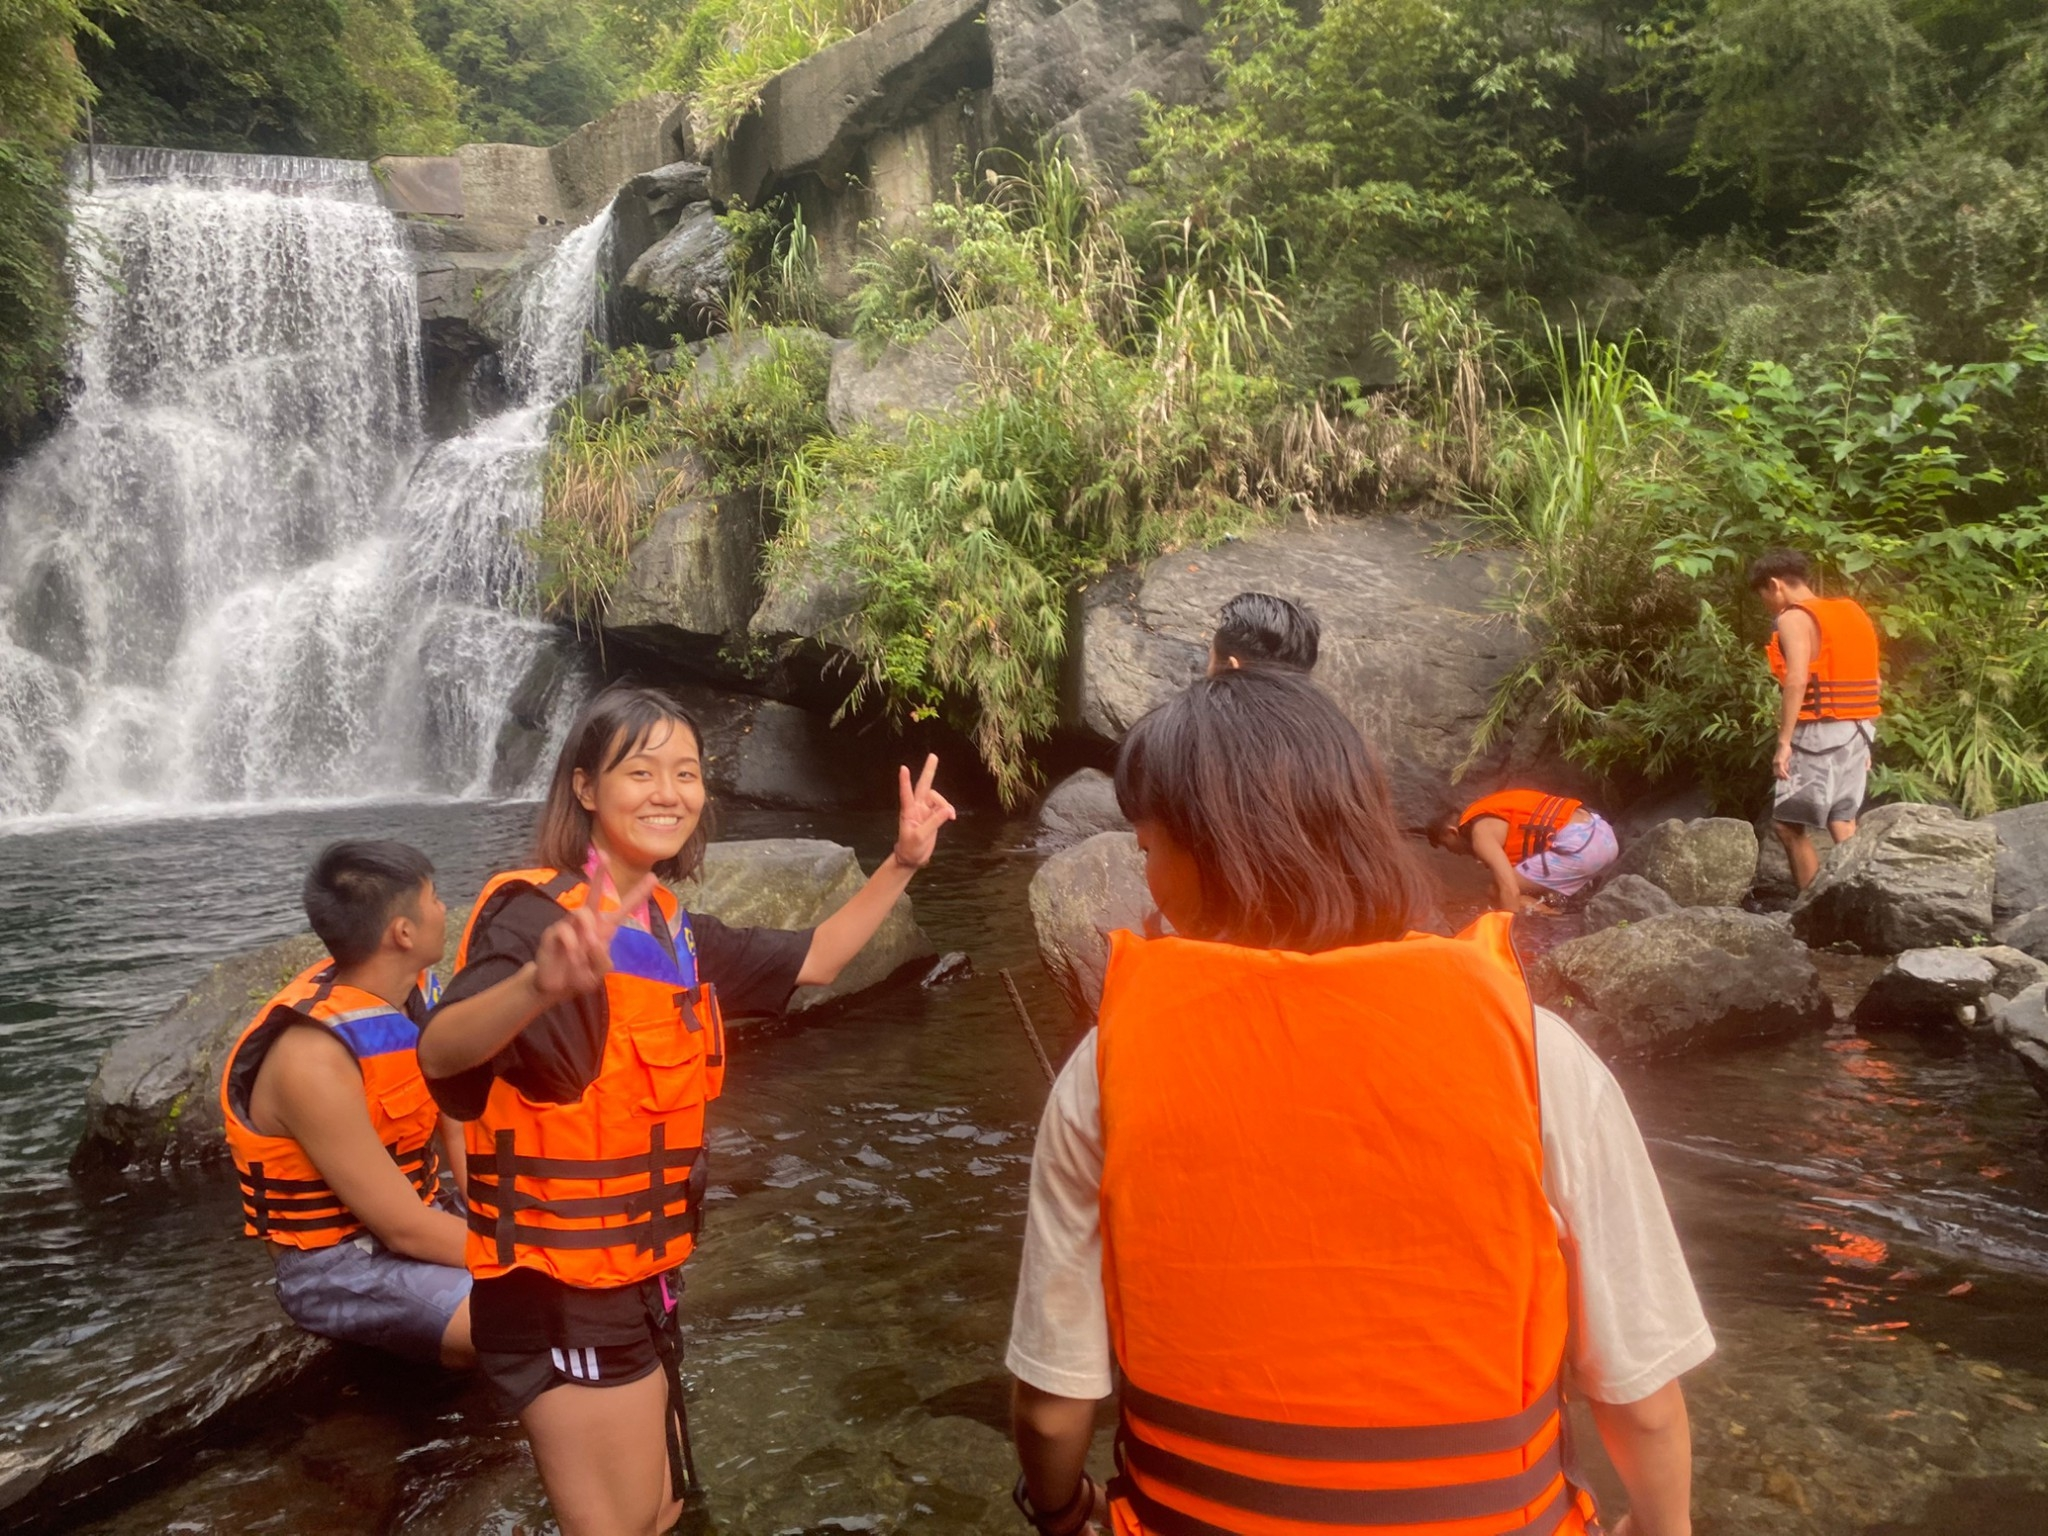people: (1131, 693, 1590, 1536), (437, 719, 740, 1536), (263, 840, 504, 1358), (1740, 555, 1881, 887), (1446, 781, 1607, 913), (1202, 596, 1337, 669)
